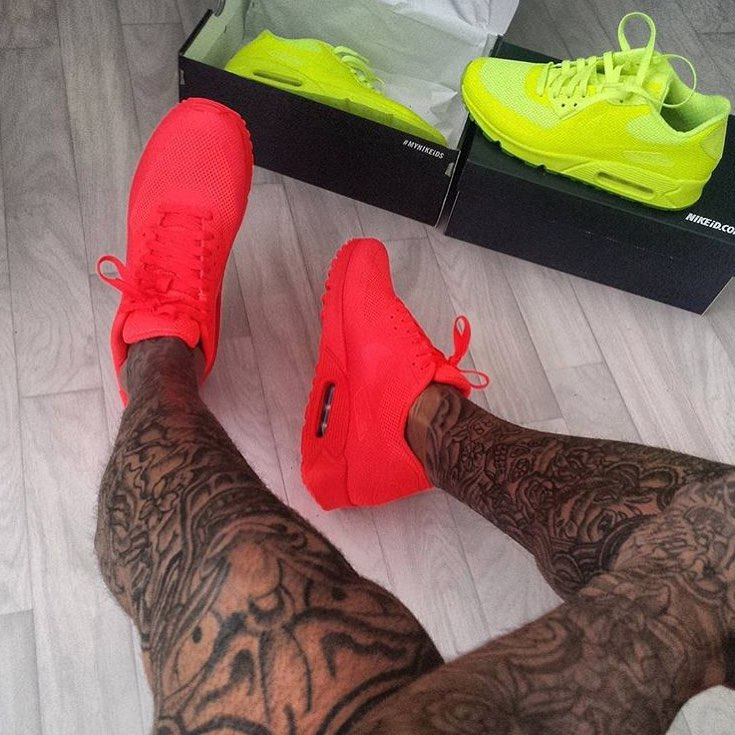sneaker: (77, 79, 274, 414), (291, 225, 499, 529)
